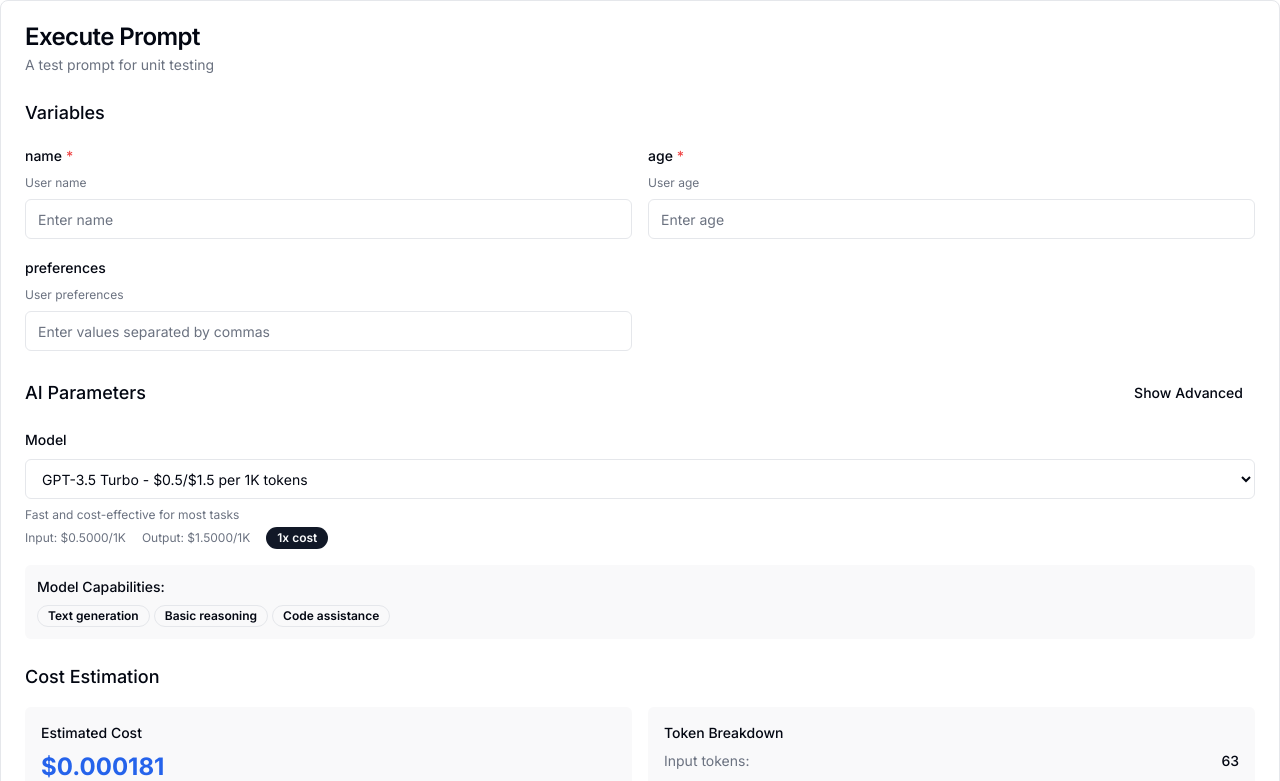
Scenario: EnhancedExecutionPanel › Model Selection and Parameters › shows advanced parameters when toggled
Click the button "Show Advanced" at (1189, 393), box 1122,375 -> 1255,411
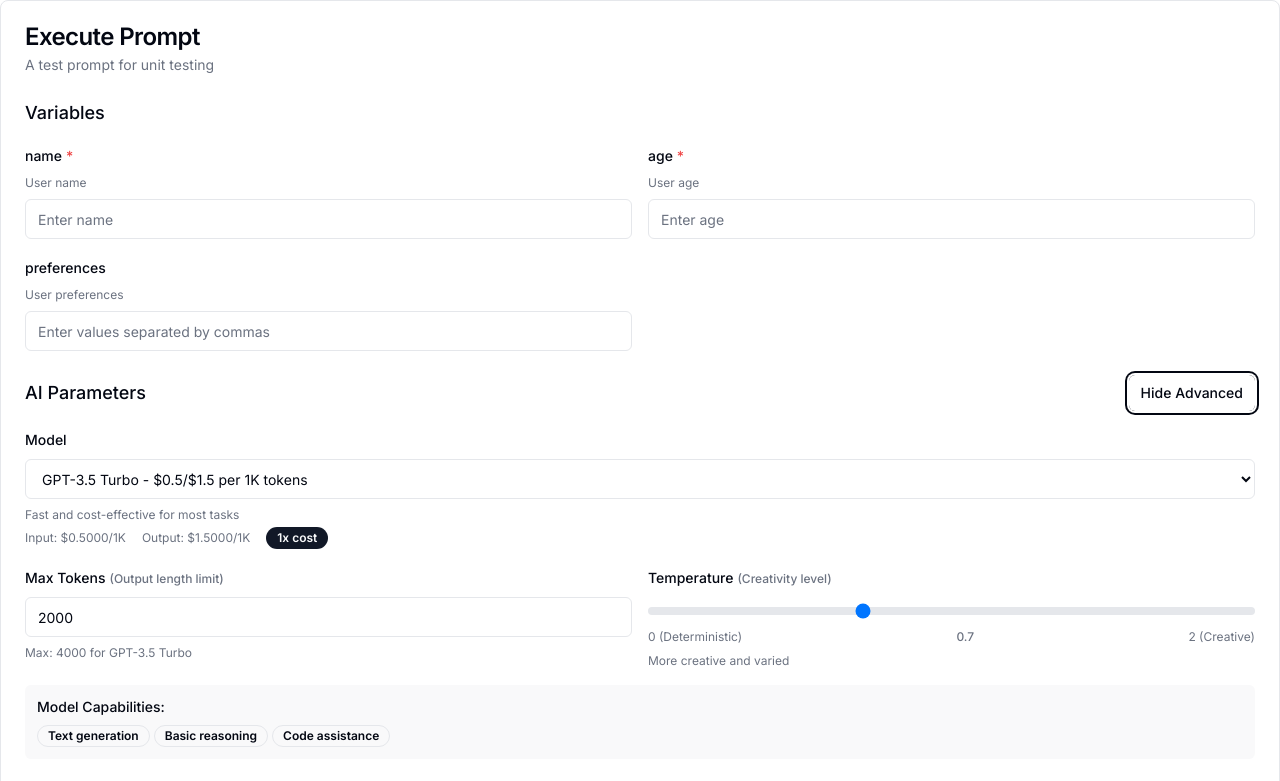
Expected: the text "Max Tokens(Output length limit)" is shown, 25,569 -> 224,586
Expected: the text "Temperature(Creativity level)" is shown, 648,569 -> 832,586
